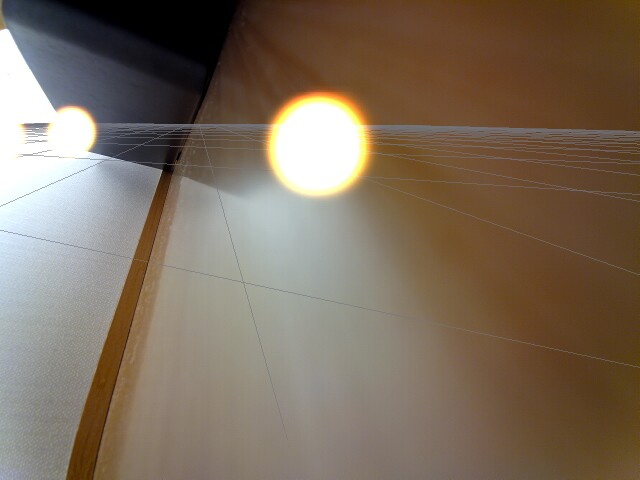firebig: (259, 81, 381, 218)
